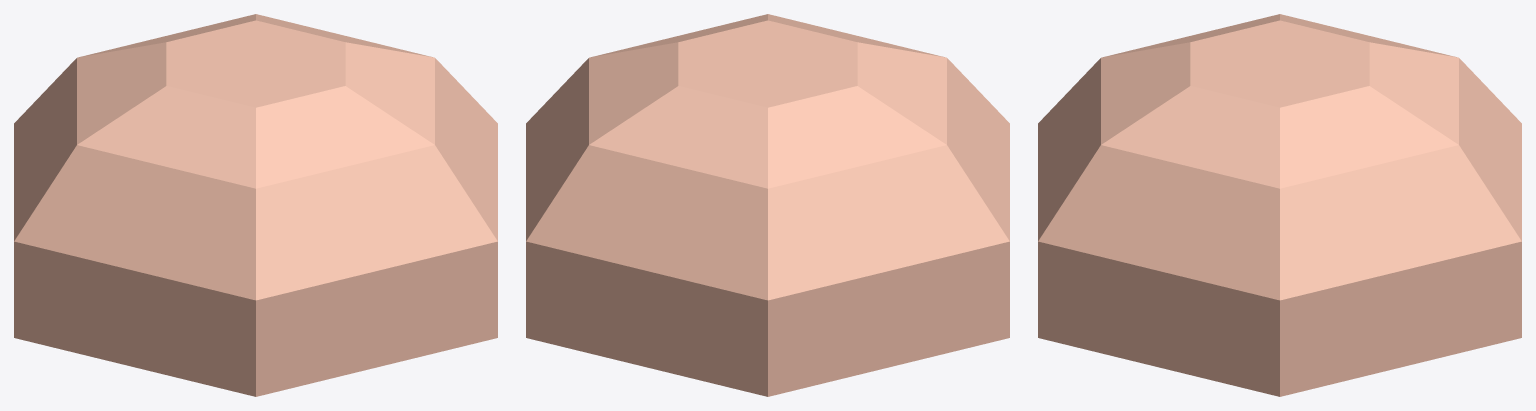
File: meteor_half.glb
3 renders of one model, left to right at view 1: azimuth 30°, elevation 25°; view 2: azimuth 150°, elevation 25°; view 3: azimuth 270°, elevation 25°, orthographic.
Parts seen in each view (by area): view 1: meteor_half; view 2: meteor_half; view 3: meteor_half.
Part boxes in pixels (<box>): meteor_half: <box>14,14,497,396</box>; meteor_half: <box>526,14,1009,396</box>; meteor_half: <box>1038,14,1521,396</box>.
Size of the model in its own units: 1.22 by 0.516 by 1.05.
